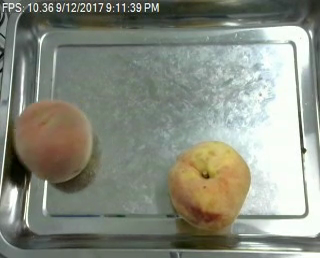Peach: (166, 139, 250, 230), (12, 98, 92, 182)
